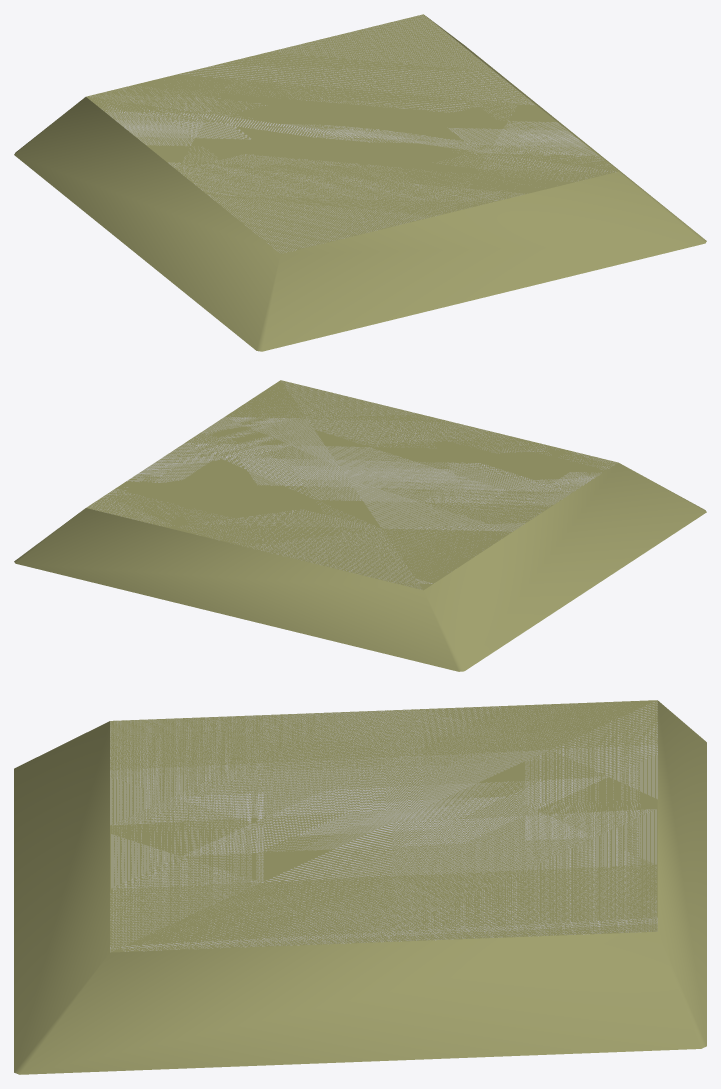
The model's file is original-109.obj.
The picture shows the model from 3 angles, top to bottom: view 1: azimuth 30°, elevation 25°; view 2: azimuth 150°, elevation 25°; view 3: azimuth 270°, elevation 25°; orthographic projection. The views are drawn at different scales.
Parts seen in each view (by area): view 1: Group109/mesh100/mesh100-geometry#mesh100-geometry; view 2: Group109/mesh100/mesh100-geometry#mesh100-geometry; view 3: Group109/mesh100/mesh100-geometry#mesh100-geometry.
Part boxes in pixels (x1,y1,x2,y2): Group109/mesh100/mesh100-geometry#mesh100-geometry: [14, 14, 706, 351]; Group109/mesh100/mesh100-geometry#mesh100-geometry: [14, 380, 706, 671]; Group109/mesh100/mesh100-geometry#mesh100-geometry: [14, 700, 706, 1074].
Bounding box in the file's own units: 0.0754 × 0.0119 × 0.0715.
